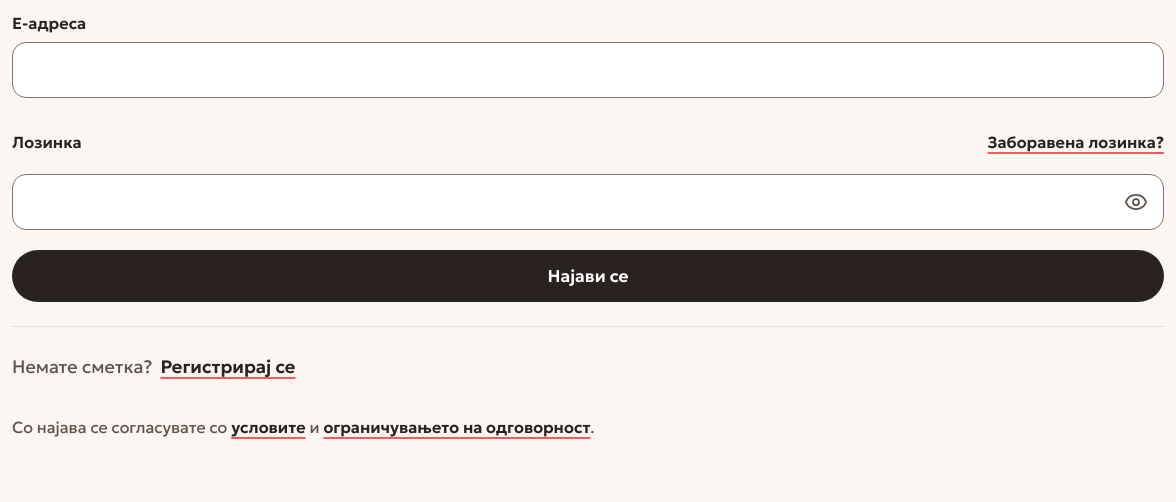
Scenario: LoginForm › surfaces a 401 response as an alert
Type "ana@example.mk" into the field labelled "Е-адреса" at (588, 70), box [12,42,1164,98]
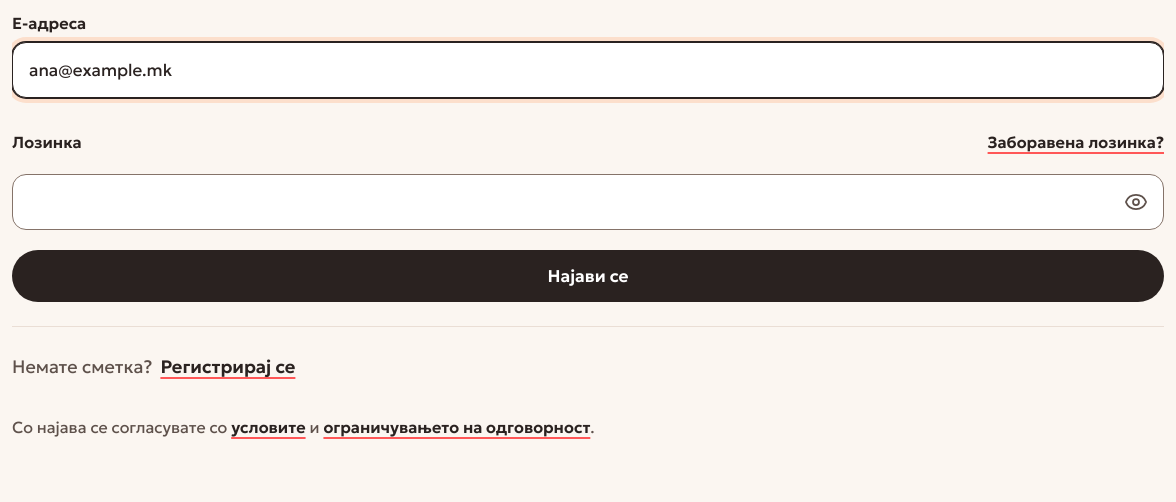
Type "secret-pass" into the password field labelled "Лозинка" at (588, 202), box [12,174,1164,230]
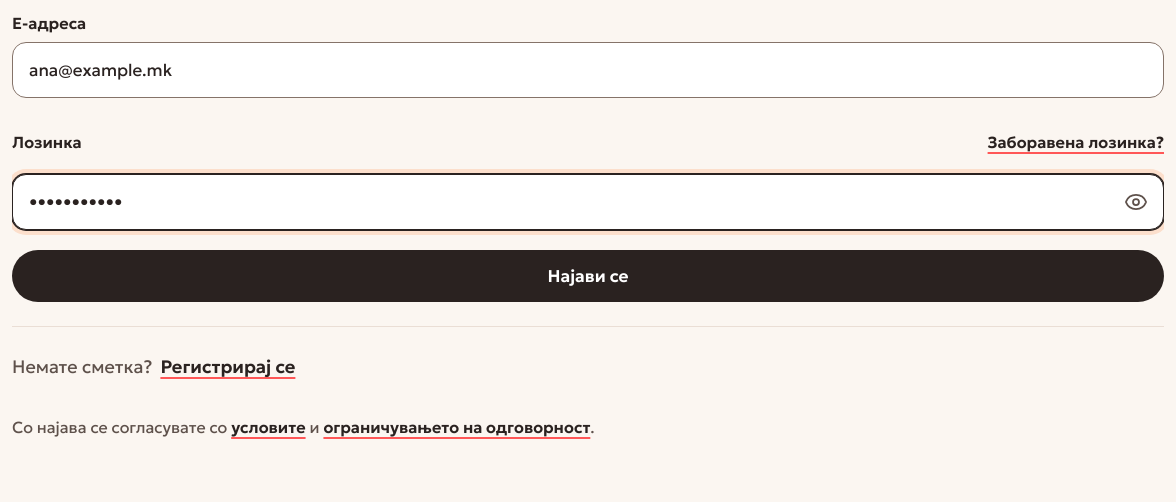
Click the button "Најави се" at (588, 276), box [12,250,1164,302]
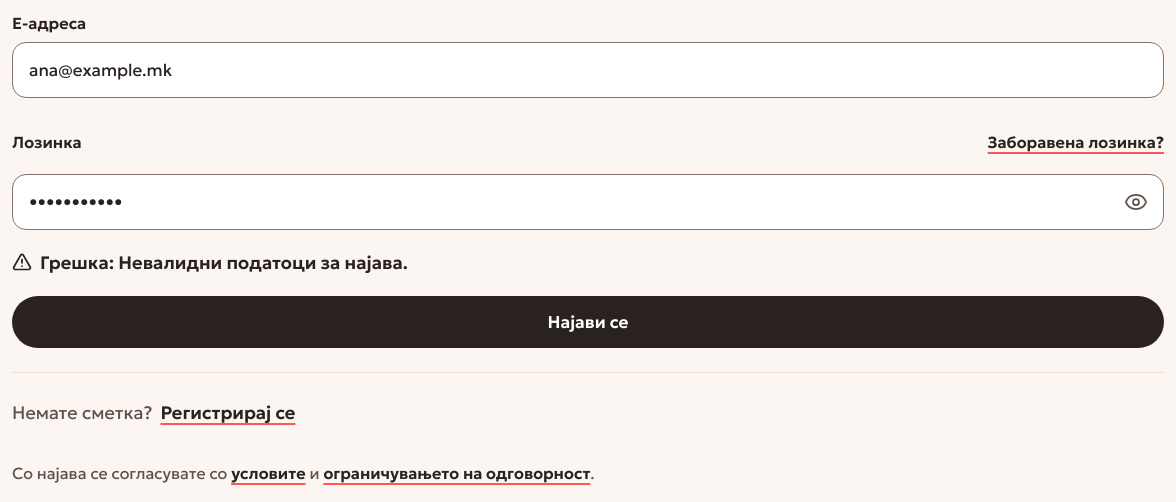
Check: the button "Најави се" is enabled, box [12,296,1164,348]
Check: the message shows "Невалидни податоци за најава.", box [118,251,408,274]
